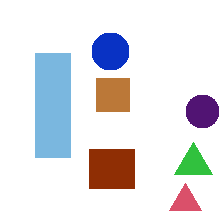circle: (92, 33, 128, 69), (186, 95, 218, 127)
rectangle: (35, 53, 70, 157), (89, 149, 134, 188), (96, 78, 129, 111)
triangle: (174, 142, 212, 174), (169, 183, 201, 210)
